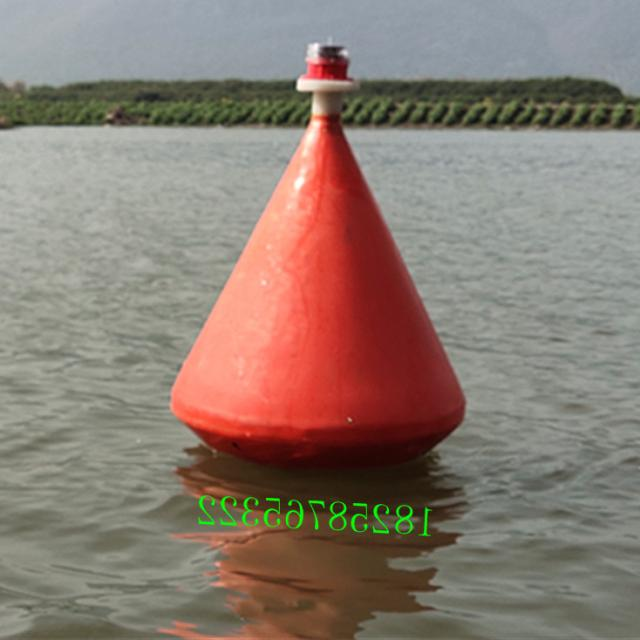buoy: (168, 34, 468, 464)
